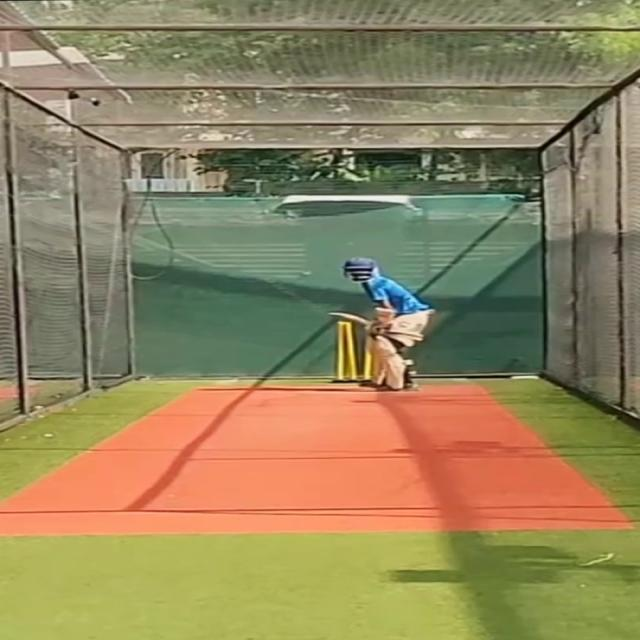stump: (333, 320, 358, 381)
